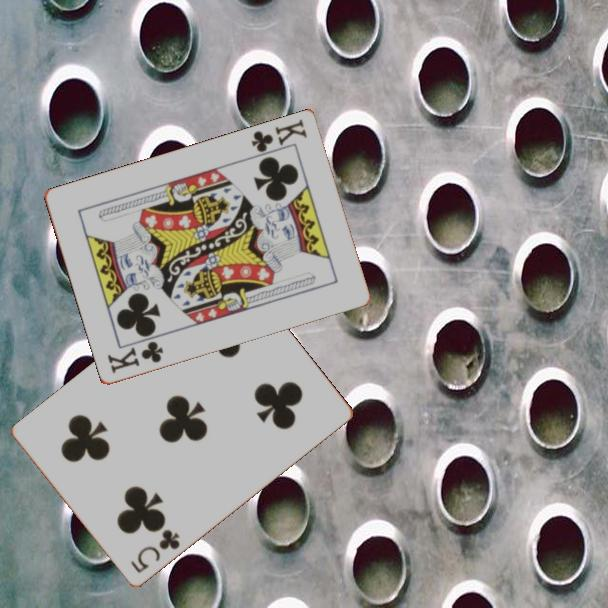c05: (127, 526, 183, 577)
c13: (247, 116, 310, 156), (103, 338, 166, 377)
